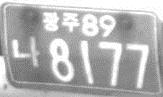1: (79, 39, 96, 85)
7: (96, 40, 123, 88), (124, 42, 150, 89)
8: (48, 37, 75, 82), (81, 13, 99, 37)
9: (98, 13, 115, 38)
광주_O: (42, 10, 79, 34)
나: (11, 35, 40, 69)
